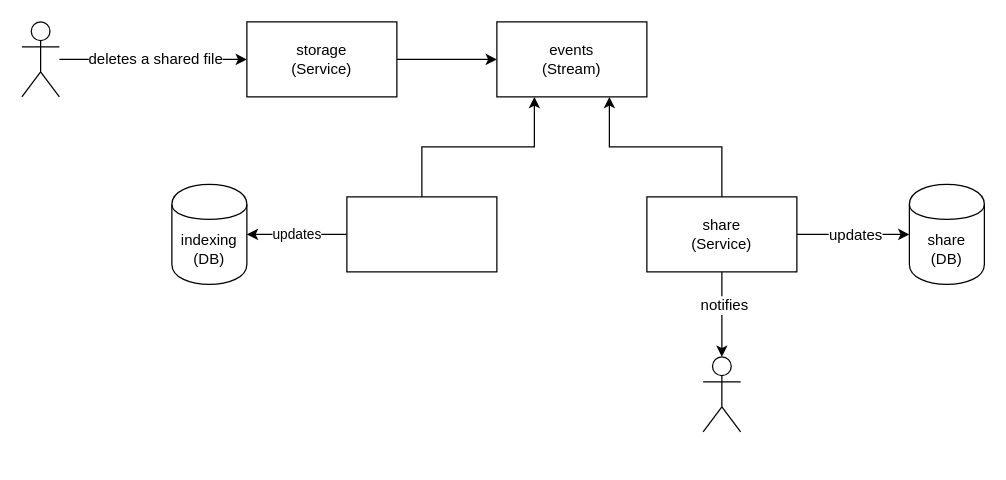
Image size: 1006x480. Some labels were removed from this diagram. Here are the shapes that lost their labels. From the top down, the centre of each, then its label:
At pixel 40 59: "Alice".
At pixel 421 234: "indexing (Service)".
At pixel 721 394: "Bob".
